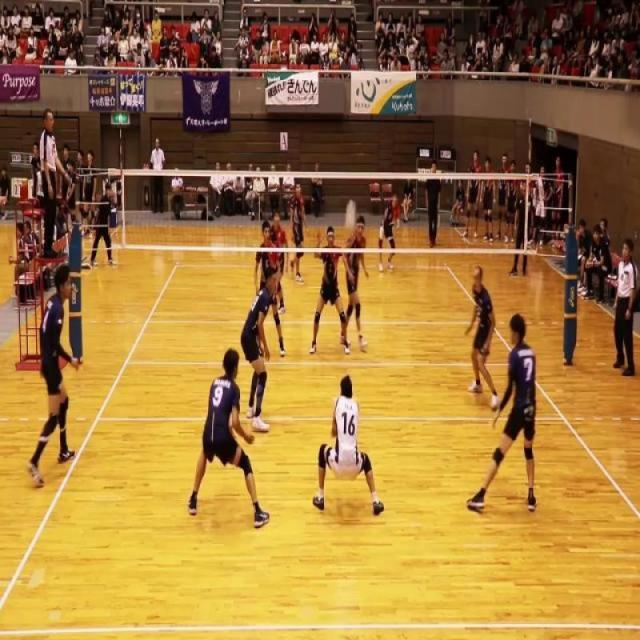volleyball: (432, 161, 436, 176)
